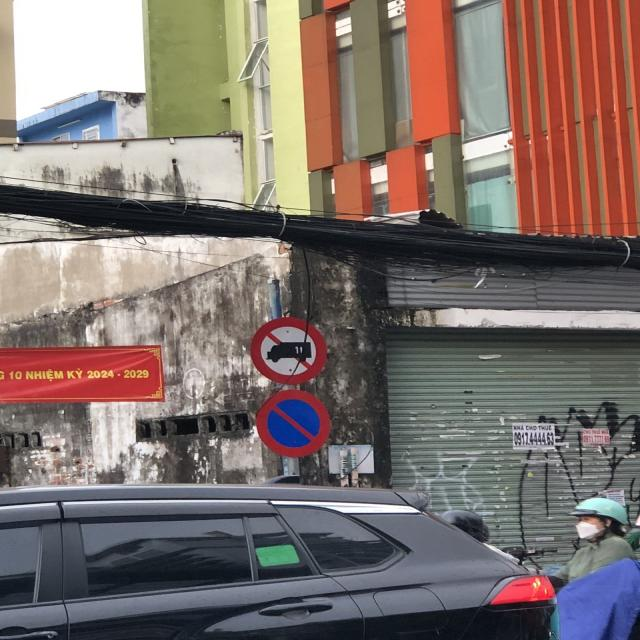Bien bao cam do xe: (250, 387, 336, 458)
Bien bao cam xe oto tai: (250, 316, 328, 386)
